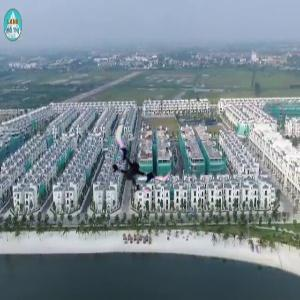drone: (102, 131, 174, 203)
